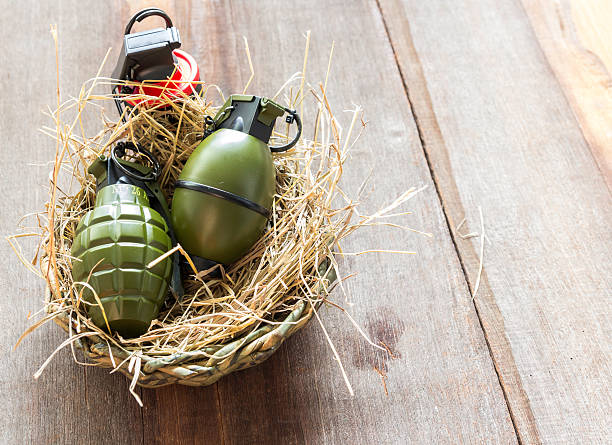e1: (171, 93, 301, 264), (67, 141, 180, 327)
